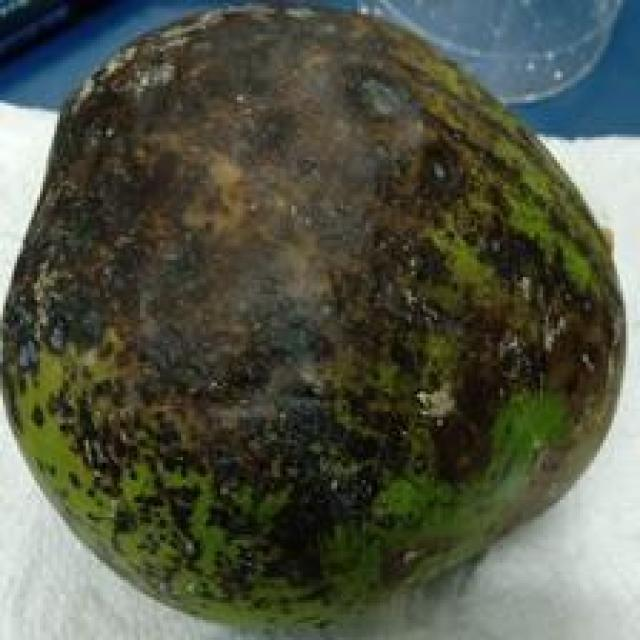Bad_Mango: (2, 11, 624, 623)
